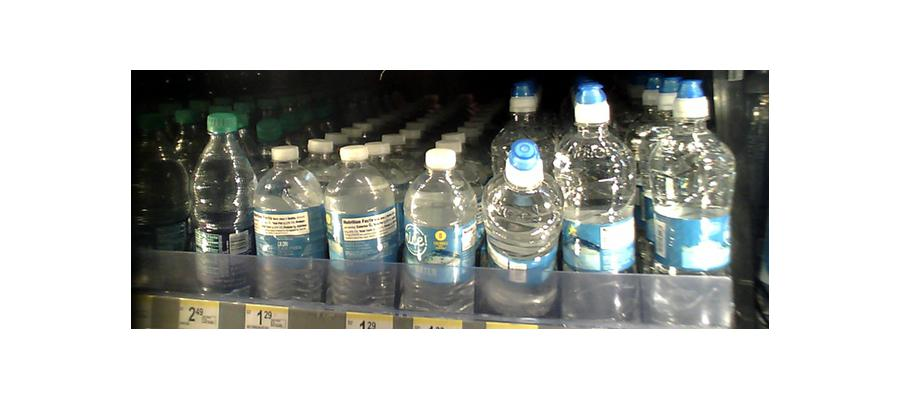bottle: (645, 83, 735, 326), (558, 89, 636, 320), (480, 138, 558, 317), (401, 147, 474, 314), (323, 145, 397, 308), (190, 111, 251, 298), (252, 140, 321, 304)
